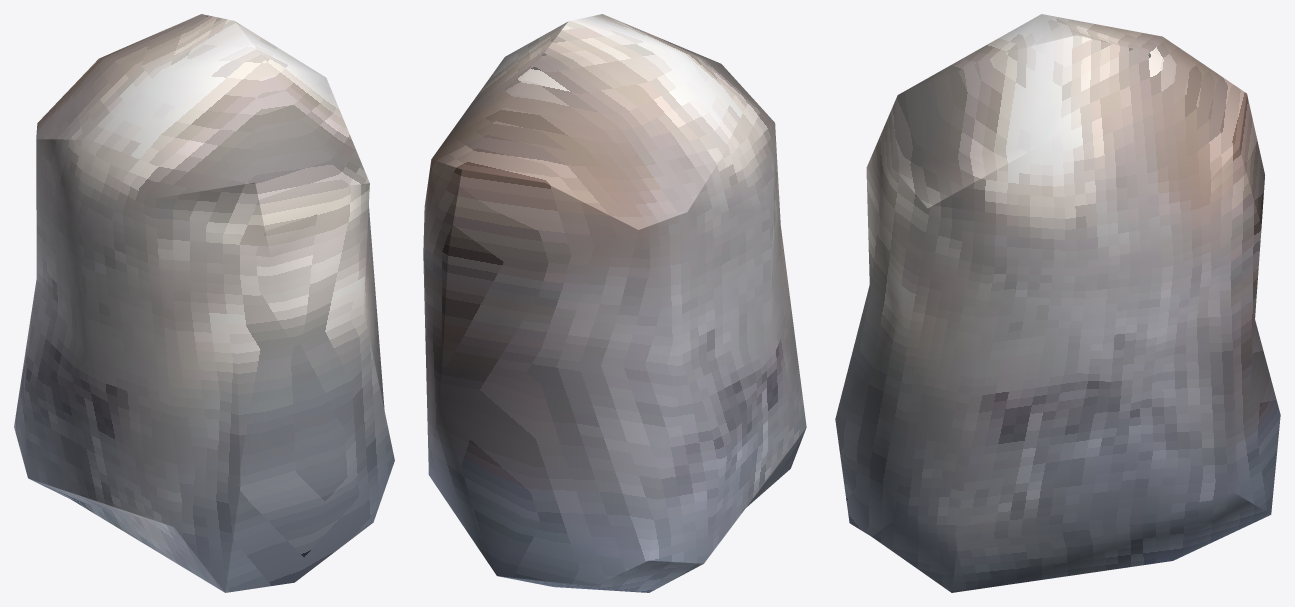
The model's file is trash_white.glb.
The picture shows the model from 3 angles, left to right: view 1: azimuth 30°, elevation 25°; view 2: azimuth 150°, elevation 25°; view 3: azimuth 270°, elevation 25°; orthographic projection. The views are drawn at different scales.
Visible parts, largest first — view 1: trash_white; view 2: trash_white; view 3: trash_white.
Boxes of the visible parts, x1,y1,x2,y2 form: trash_white: (14,14,394,592); trash_white: (423,14,806,592); trash_white: (835,14,1280,592).
Bounding box in the file's own units: 0.3975 × 0.655 × 0.493.
Materials: 1 (1 with a texture image).
